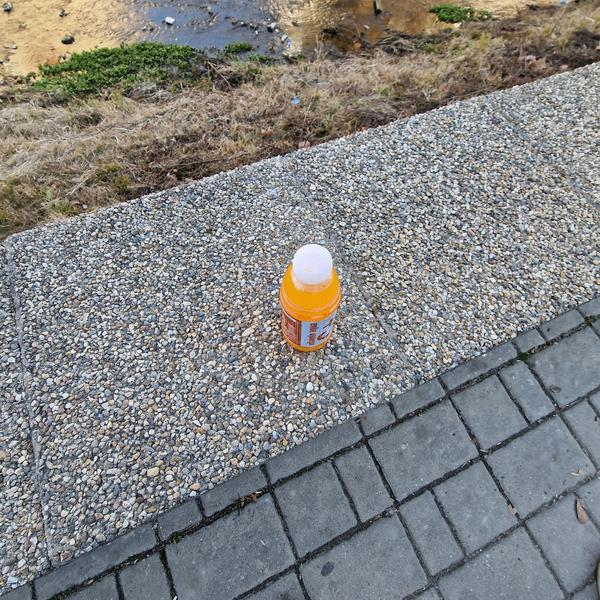plastic_bottle: (272, 238, 346, 356)
